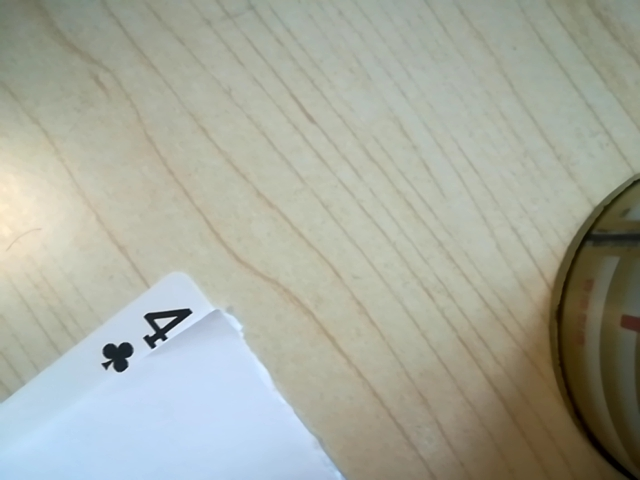mh 4: (85, 298, 205, 378)
